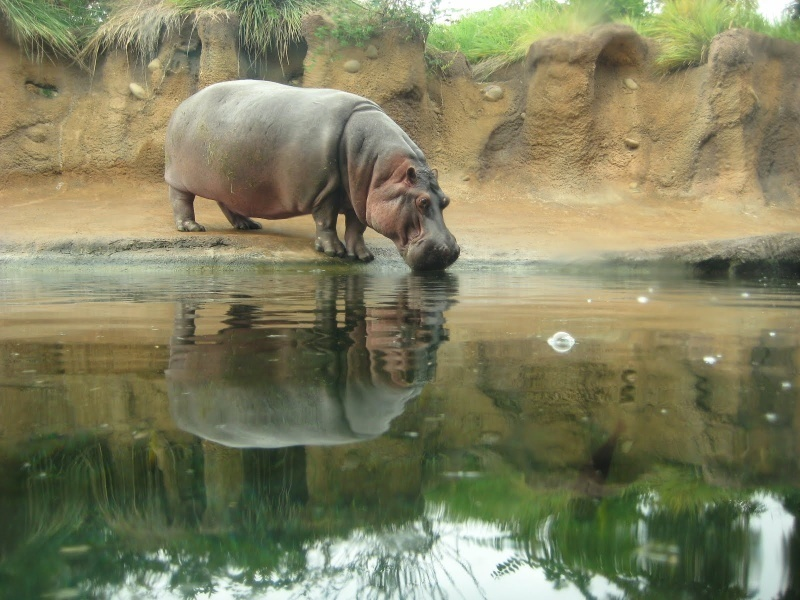hipopotamo: (159, 76, 464, 278)
